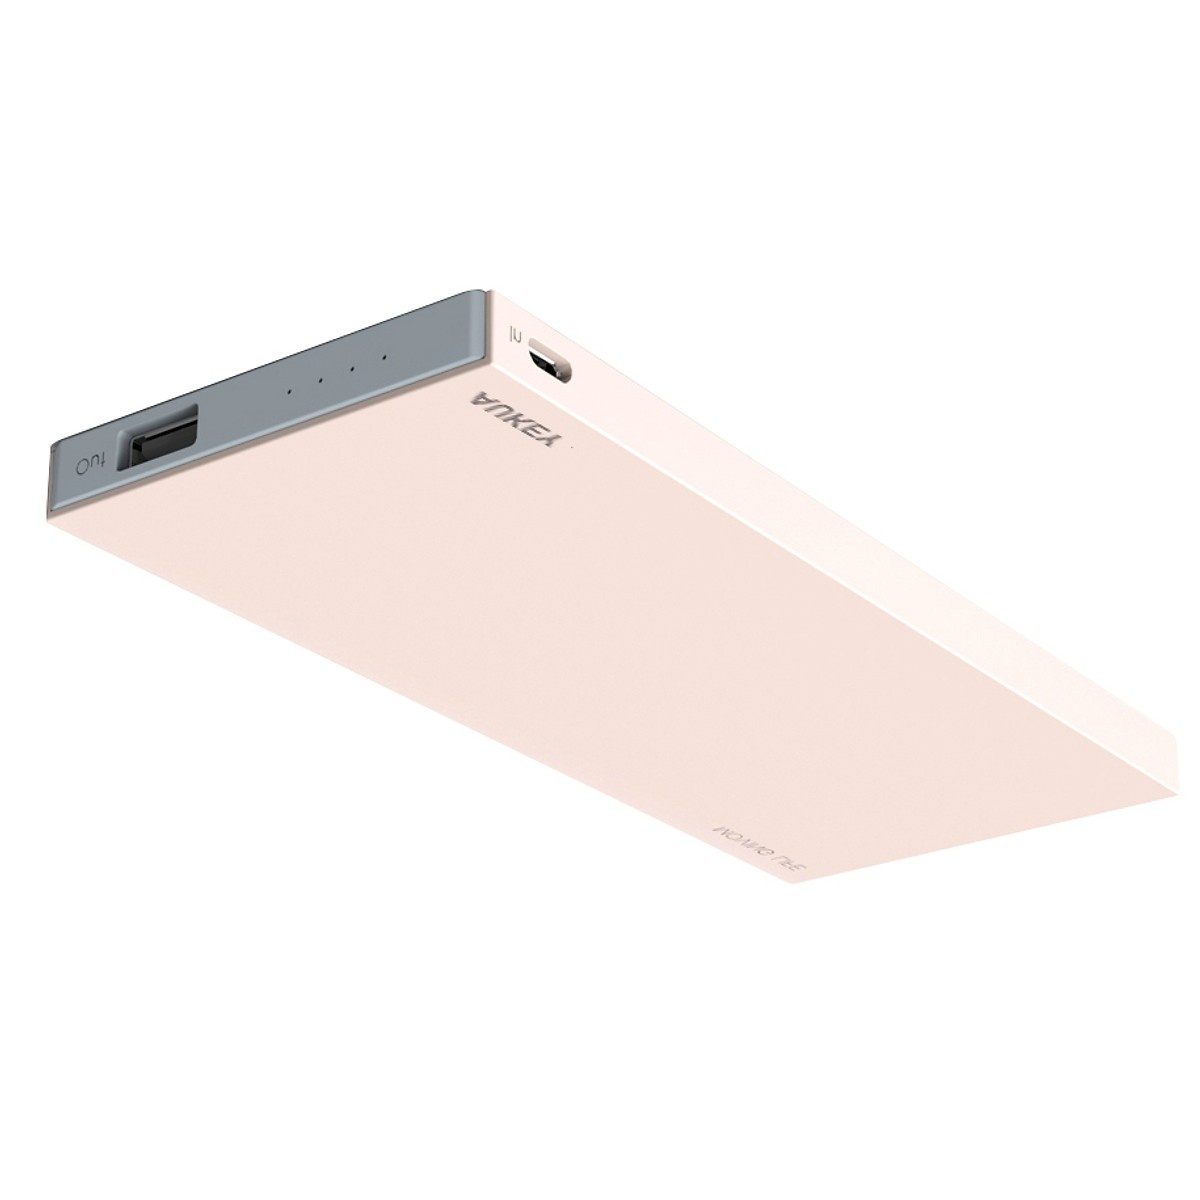Aukey: (386, 360, 625, 495)
